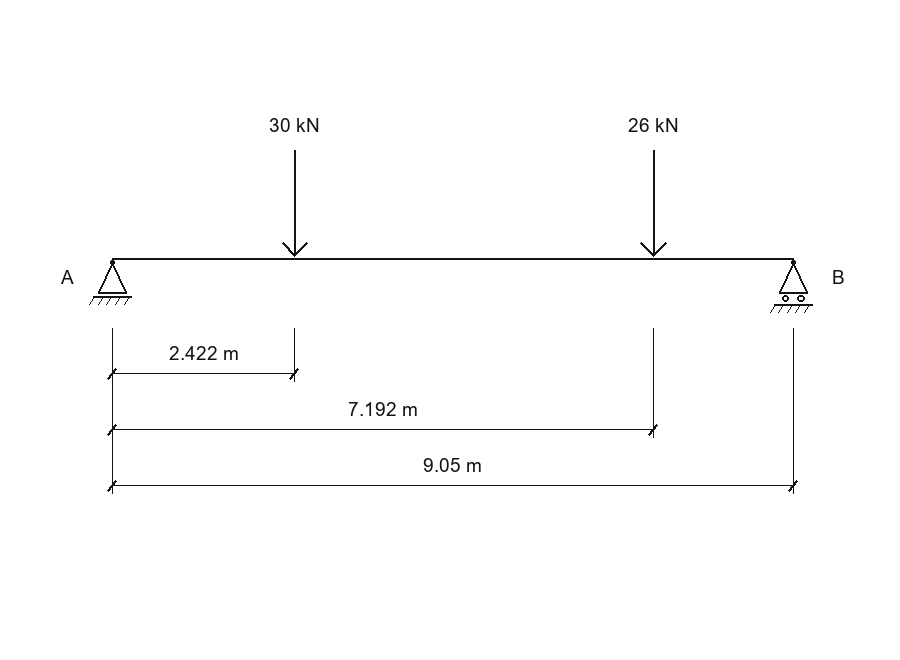pin_support: (89, 260, 132, 305)
point_load: (640, 150, 667, 257), (282, 150, 308, 257)
roller_support: (770, 260, 813, 313)
